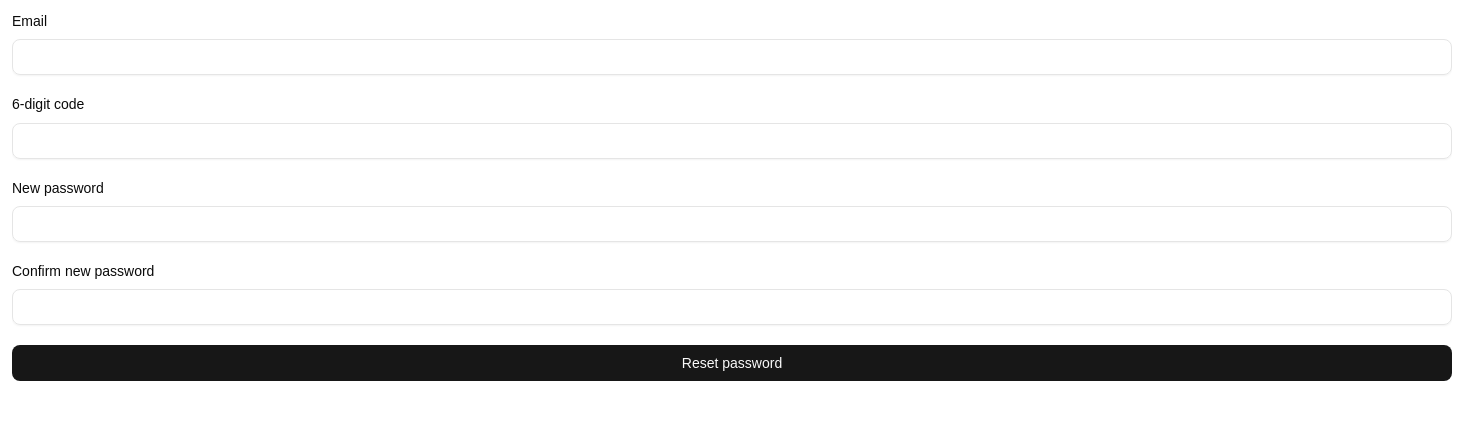
Test case: ResetPasswordForm › blocks submission when confirmNewPassword does not match newPassword
The image size is (1464, 426).
Step 1. Type "a@b.com" into the field labelled "Email" → (732, 57), box [12, 39, 1452, 75]
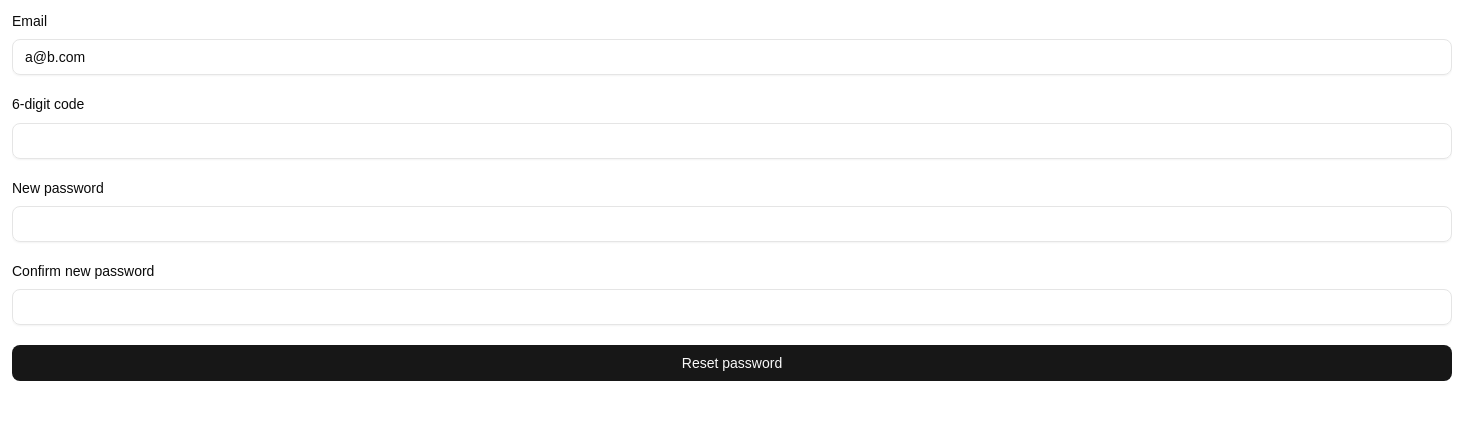
Step 2. Type "123456" into the field labelled "6-digit code" → (732, 140), box [12, 122, 1452, 158]
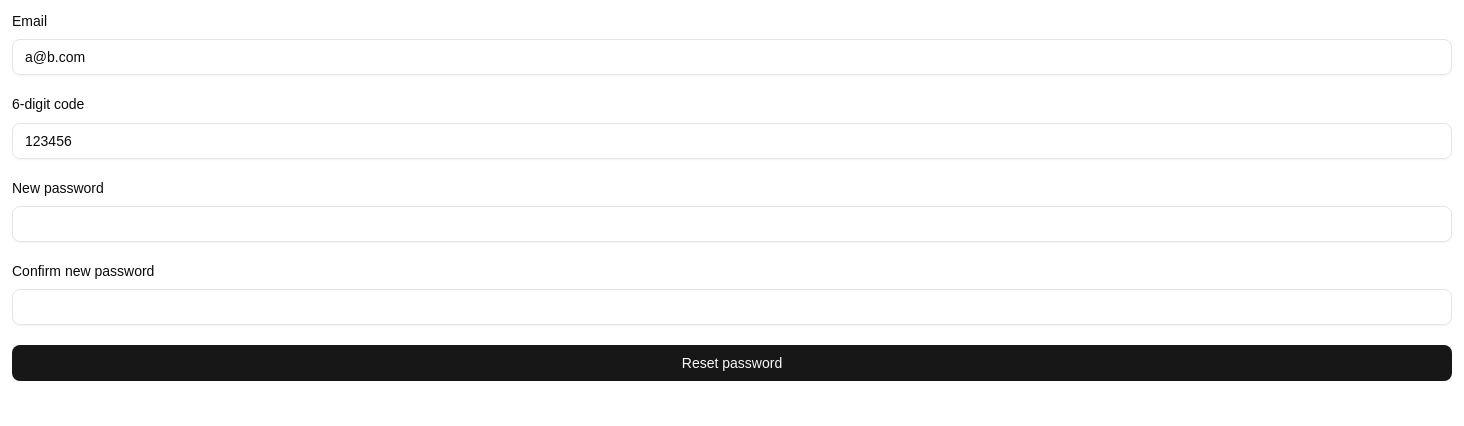
Step 3. Type "newpass1" into the password field labelled "New password" → (732, 224), box [12, 206, 1452, 242]
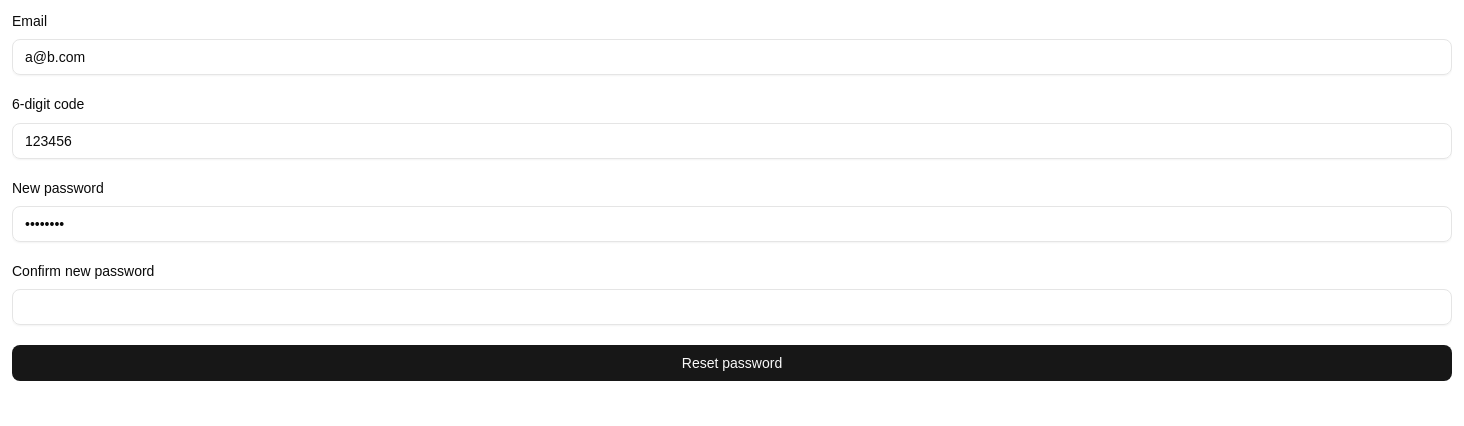
Step 4. Type "different1" into the password field labelled "Confirm new password" → (732, 307), box [12, 289, 1452, 325]
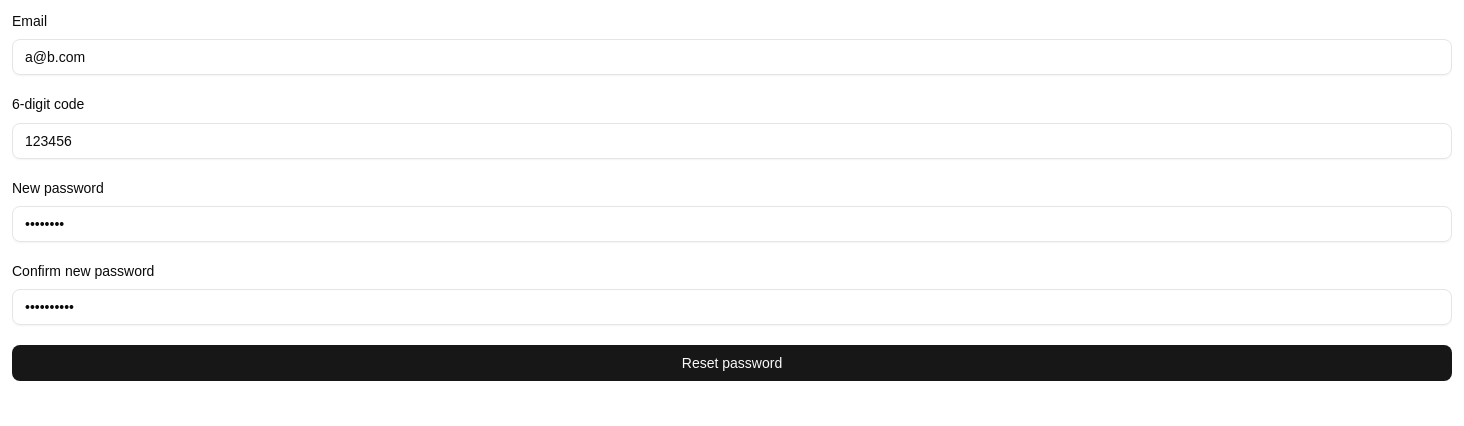
Step 5. Click the button "Reset password" → click(732, 363), box [12, 345, 1452, 381]
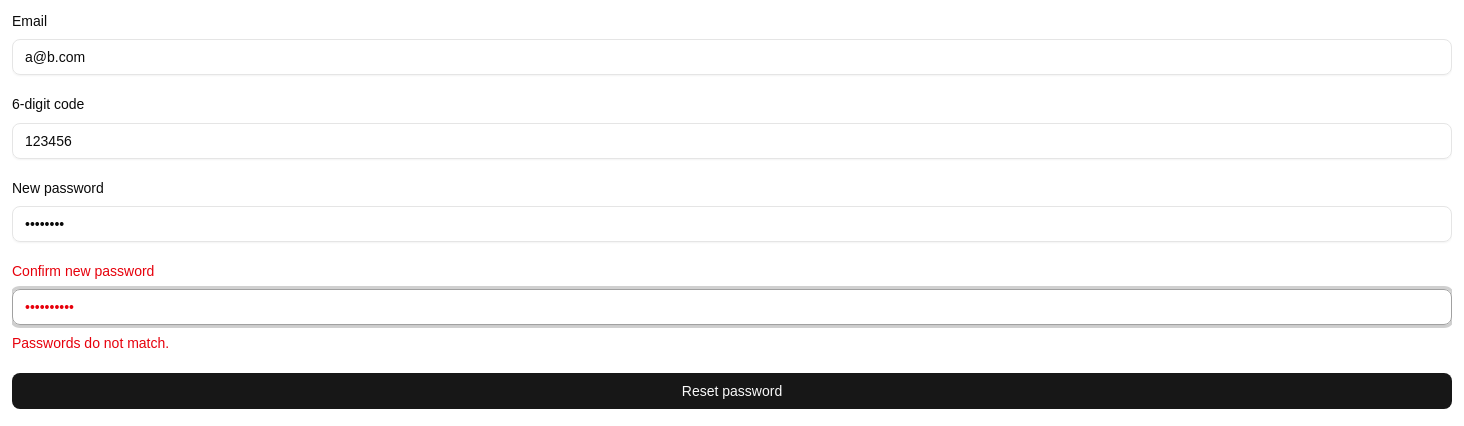
expect the text "Passwords do not match." is shown: met, box [12, 335, 169, 351]
